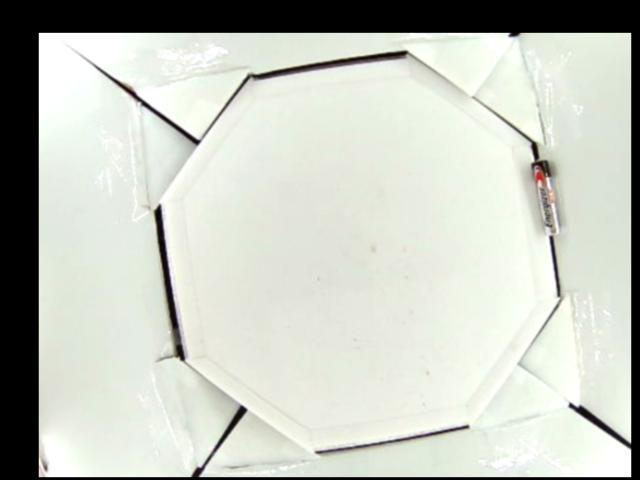Battery: (531, 159, 558, 238)
